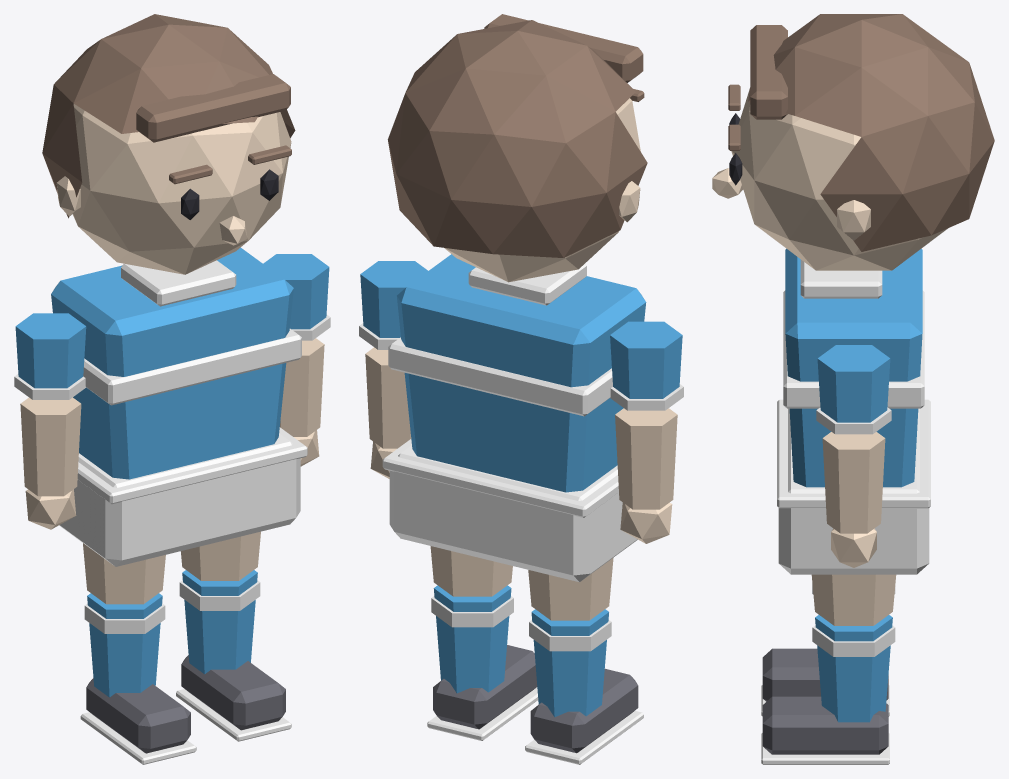
Rendered from player_outfield.glb.
3 renders of one model, left to right at view 1: azimuth 30°, elevation 25°; view 2: azimuth 150°, elevation 25°; view 3: azimuth 270°, elevation 25°, orthographic. The views are drawn at different scales.
Visible parts, largest first — view 1: Torso, Skull, Hair, Shorts, ShirtStripe, Fringe, Forearm_R, Sock_R, Sock_L, Boot_L, Boot_R, UpperArm_R (+14 smaller); view 2: Hair, Torso, Shorts, ShirtStripe, Forearm_R, Sock_L, Sock_R, UpperArm_R, Boot_R, Boot_L, ShortsBand, Forearm_L (+13 smaller); view 3: Hair, Torso, Skull, Shorts, Boot_L, Forearm_L, Sock_L, UpperArm_L, Thigh_L, ShortsBand, Fringe, Boot_R (+8 smaller).
Part boxes in pixels (x1=…): Torso: x1=51, y1=247, x2=293, y2=479; Skull: x1=72, y1=104, x2=291, y2=274; Hair: x1=42, y1=14, x2=295, y2=218; Shorts: x1=59, y1=433, x2=300, y2=566; ShirtStripe: x1=83, y1=328, x2=301, y2=405; Fringe: x1=136, y1=74, x2=290, y2=142; Forearm_R: x1=20, y1=397, x2=81, y2=496; Sock_R: x1=87, y1=593, x2=162, y2=697; Sock_L: x1=182, y1=570, x2=257, y2=674; Boot_L: x1=181, y1=655, x2=285, y2=730; Boot_R: x1=86, y1=678, x2=190, y2=753; UpperArm_R: x1=15, y1=313, x2=86, y2=388; Hair: x1=387, y1=20, x2=647, y2=257; Torso: x1=397, y1=254, x2=646, y2=492; Shorts: x1=389, y1=445, x2=637, y2=582; ShirtStripe: x1=388, y1=337, x2=612, y2=416; Forearm_R: x1=615, y1=408, x2=677, y2=509; Sock_L: x1=433, y1=585, x2=511, y2=693; Sock_R: x1=531, y1=609, x2=608, y2=717; UpperArm_R: x1=610, y1=321, x2=682, y2=398; Boot_R: x1=530, y1=668, x2=638, y2=753; Boot_L: x1=433, y1=645, x2=537, y2=729; ShortsBand: x1=382, y1=439, x2=618, y2=517; Forearm_L: x1=365, y1=347, x2=411, y2=448; Hair: x1=748, y1=14, x2=994, y2=251; Torso: x1=785, y1=248, x2=922, y2=487; Skull: x1=731, y1=88, x2=947, y2=270; Shorts: x1=778, y1=408, x2=929, y2=574; Boot_L: x1=762, y1=696, x2=888, y2=754; Forearm_L: x1=822, y1=432, x2=885, y2=533; Sock_L: x1=815, y1=615, x2=892, y2=722; UpperArm_L: x1=817, y1=345, x2=890, y2=422; Thigh_L: x1=811, y1=574, x2=896, y2=625; ShortsBand: x1=777, y1=399, x2=930, y2=508; Fringe: x1=750, y1=25, x2=787, y2=119; Boot_R: x1=762, y1=648, x2=888, y2=701.
Size of the model in its own units: 0.5639 by 1.24 by 0.4495.
